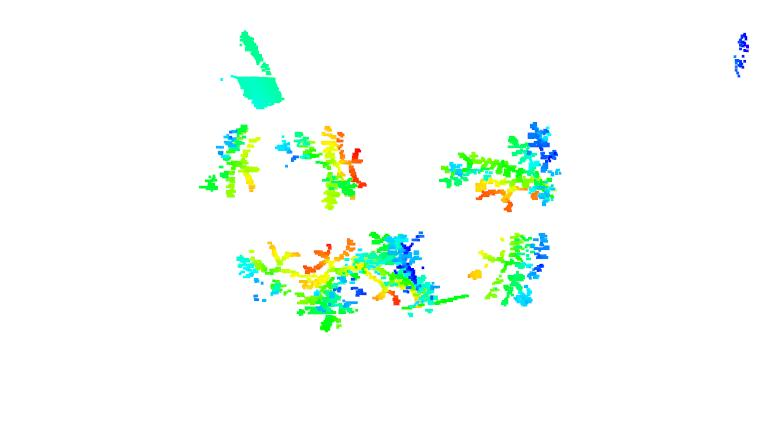chickpea: (273, 125, 367, 212), (490, 110, 564, 215), (366, 229, 442, 324), (187, 123, 262, 204), (471, 235, 546, 311), (307, 235, 365, 333), (234, 240, 304, 312), (437, 155, 486, 193)
